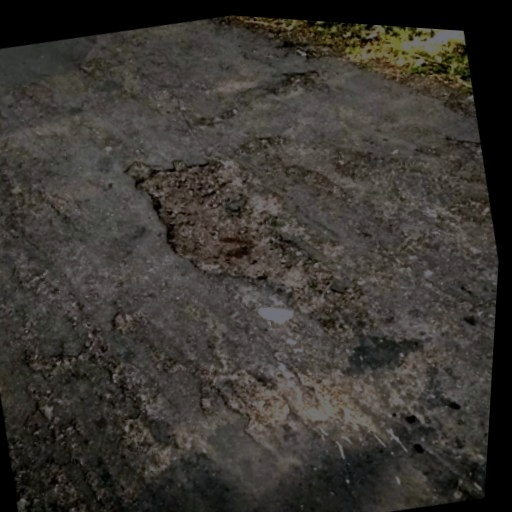pothole: (114, 125, 331, 324), (274, 61, 325, 98)
